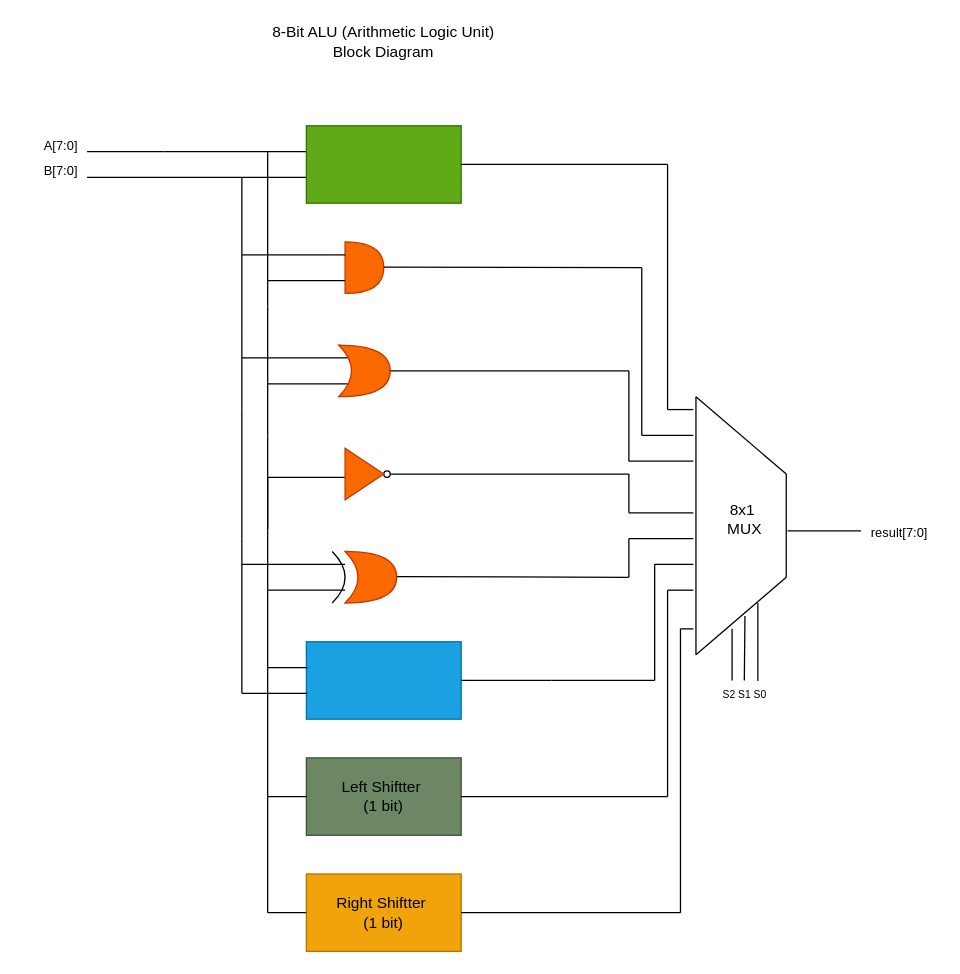
Some shapes in this 960 by 974 pixel diagram are drawn without their labels. The shapes that lost their labels are listed below. From the top down, each one's centre as x and y in pixels, then its label:
the point at 383,163: Adder Block
the point at 383,679: Substractor Block
